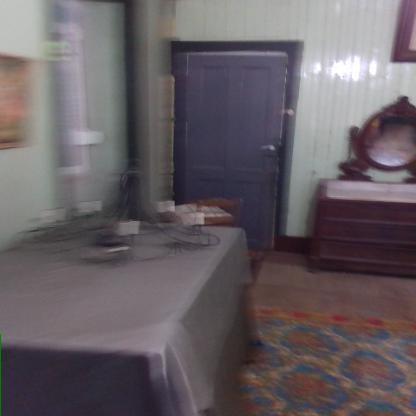door: (176, 53, 283, 249)
knob: (262, 143, 276, 156)
